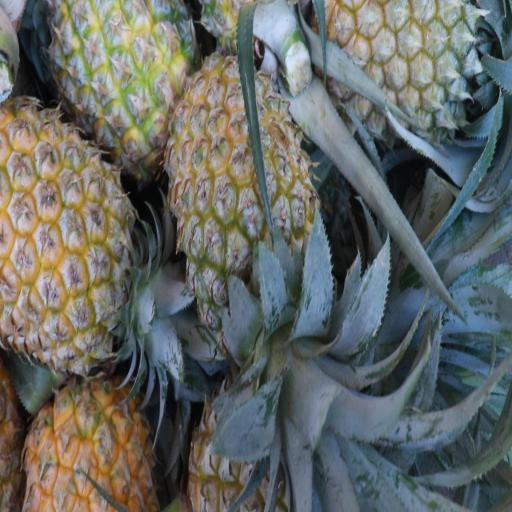------------------------------: (170, 54, 303, 305), (192, 379, 322, 512)
Pineapple - v8 v1: (0, 106, 145, 366), (50, 0, 192, 155), (17, 365, 155, 512)
